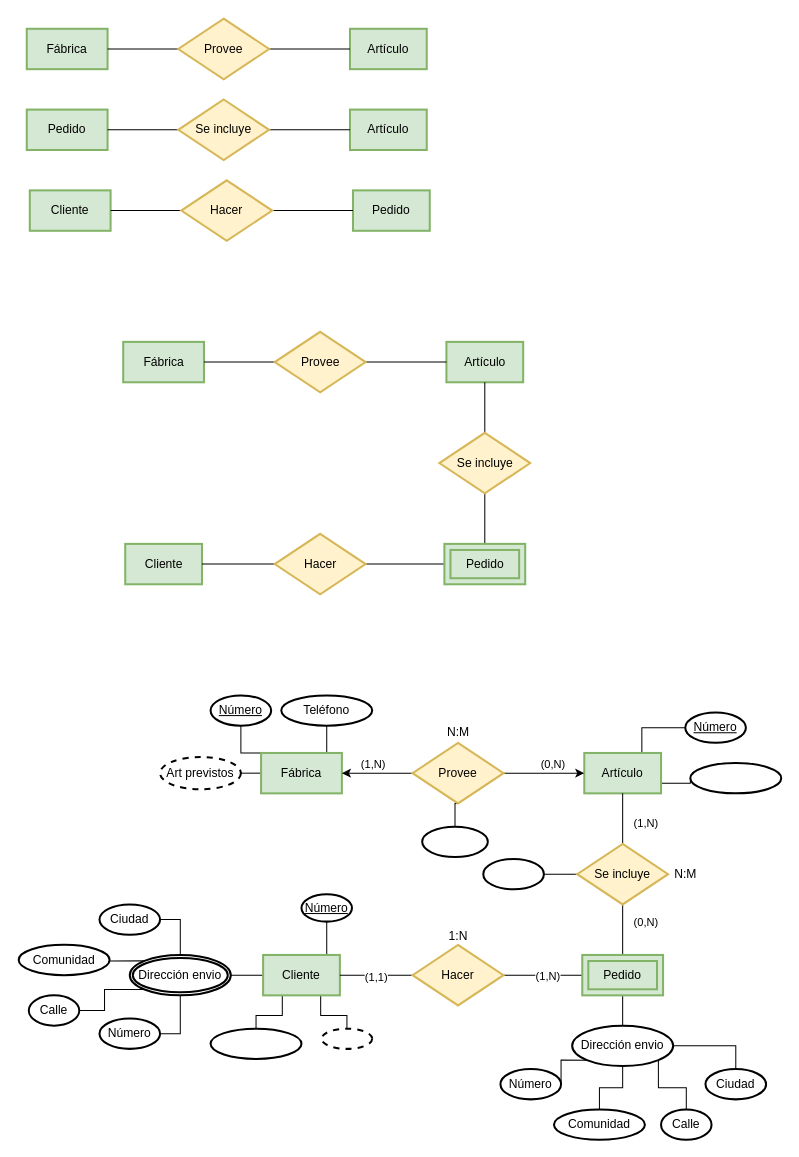
Some shapes in this 799 by 1157 pixel diagram are drawn without their labels. The shapes that lost their labels are listed below. From the top down, each one's centre as x and y in pixels, then its label:
[735,778]: Descripción
[454,841]: Existencias
[513,873]: Cantidad
[255,1043]: Límite crédito
[346,1038]: Saldo
